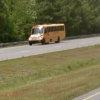Bus: (25, 20, 73, 47)
